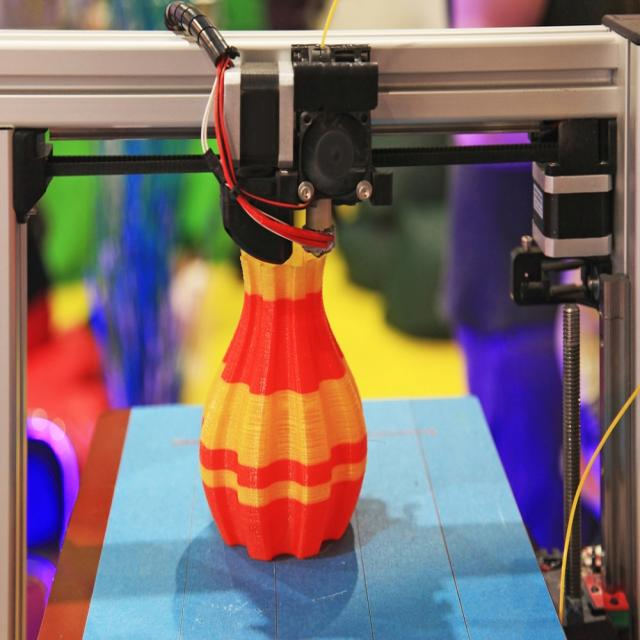Without deffect: (193, 255, 374, 569)
